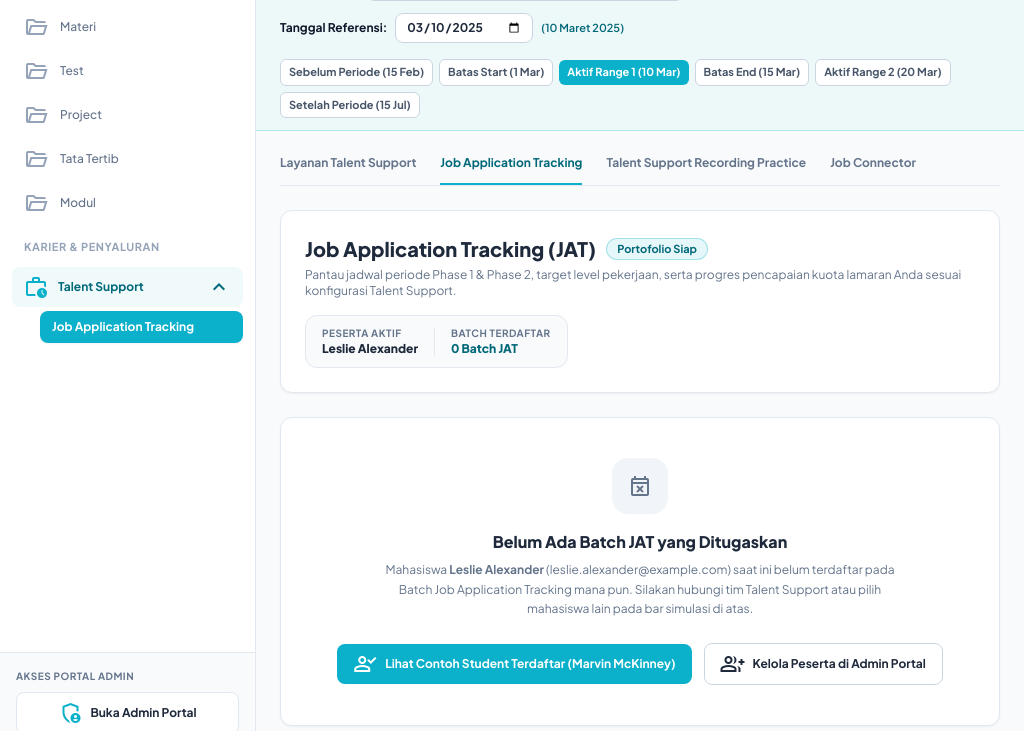
Test: EP-JAT-03 Student UI Integration Tests: Batch List, Empty States, Detail & Period Access Gating (BLG-JAT-009, BLG-JAT-010, BLG-JAT-012) › shows a useful empty state when the selected Student has no assigned batch and recovers when switching to an enrolled Student
This screenshot has width=1024, height=731.
(page scrolled)
Expected: the heading "Belum Ada Batch JAT yang Ditugaskan" is shown, x1=493 y1=531 x2=787 y2=552
Expected: the text "leslie.alexander@example.com" is shown, x1=550 y1=562 x2=727 y2=577
Note: Switch to enrolled student Marvin McKinney (stu-1) via quick recovery button
Click the button "Lihat Contoh Student Terdaftar (Marvin McKinney)".
click(514, 664)  # box x1=337 y1=644 x2=692 y2=684
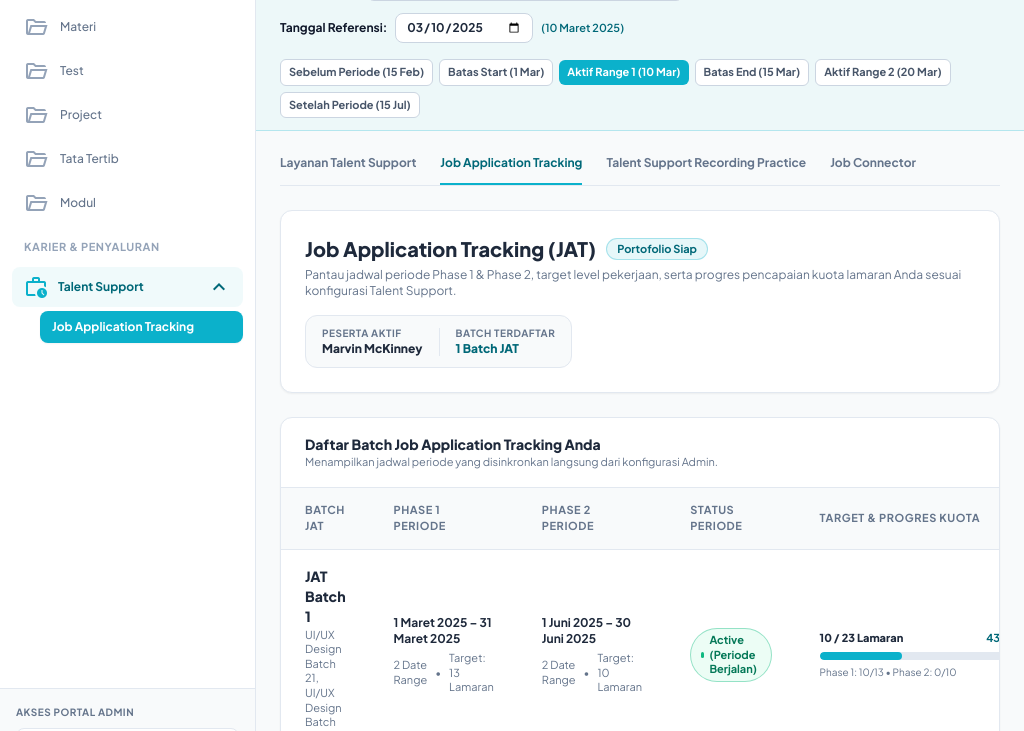
Expected: the text "JAT Batch 1" is shown, x1=305 y1=566 x2=346 y2=626
Expected: the text "1 Maret 2025 – 31 Maret 2025" is shown, x1=394 y1=615 x2=494 y2=647
Expected: the text "1 Juni 2025 – 30 Juni 2025" is shown, x1=542 y1=615 x2=642 y2=647
